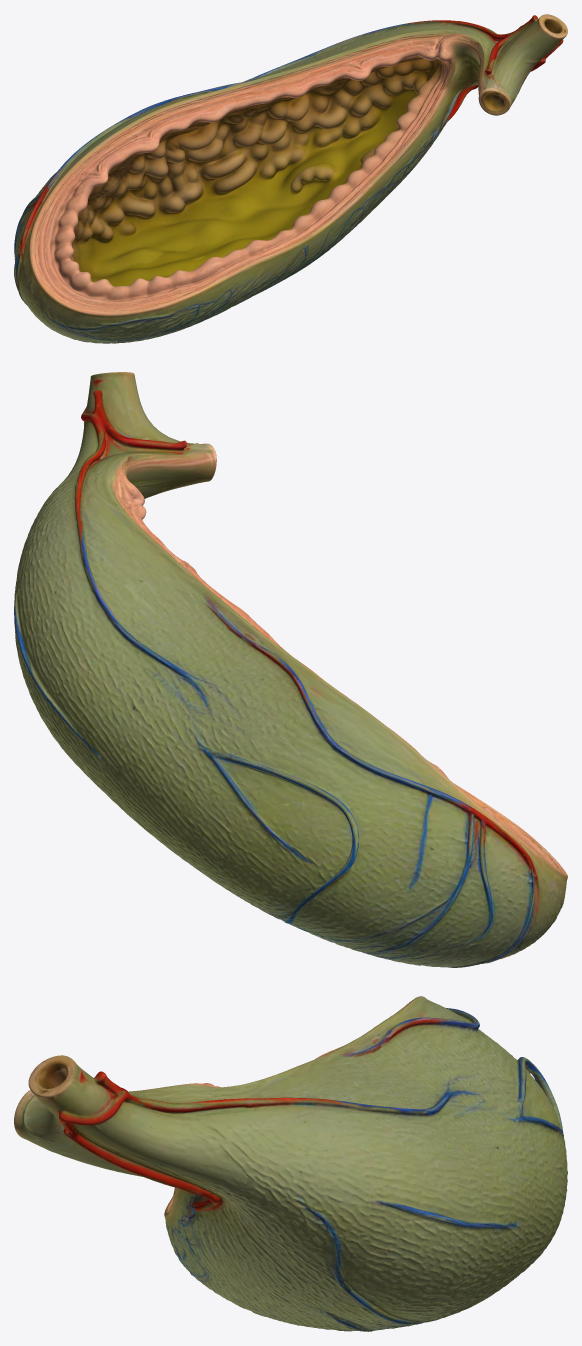
The model's file is gallbladder.glb.
3 views of the same model, one above another, from view 1: azimuth 30°, elevation 25°; view 2: azimuth 150°, elevation 25°; view 3: azimuth 270°, elevation 25° (orthographic). The views are drawn at different scales.
Visible parts, largest first — view 1: gallbladder; view 2: gallbladder; view 3: gallbladder.
Part boxes in pixels (x1=…): gallbladder: x1=14, y1=14, x2=567, y2=343; gallbladder: x1=14, y1=372, x2=567, y2=967; gallbladder: x1=14, y1=996, x2=567, y2=1331.
Bounding box in the file's own units: 0.9334 × 0.5854 × 0.6147.
1 material, 1 textured.
